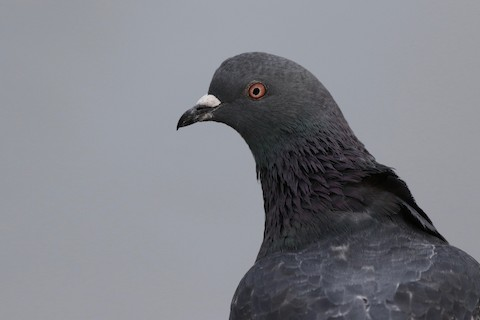pigeon: (173, 43, 476, 317)
